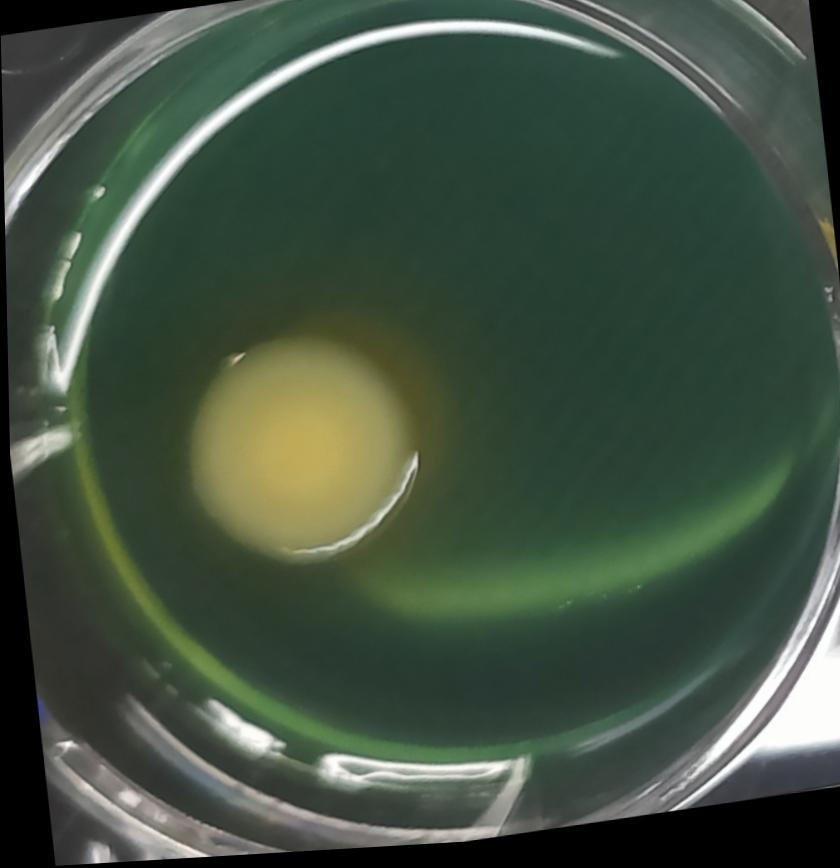valgino: (136, 285, 449, 615)
